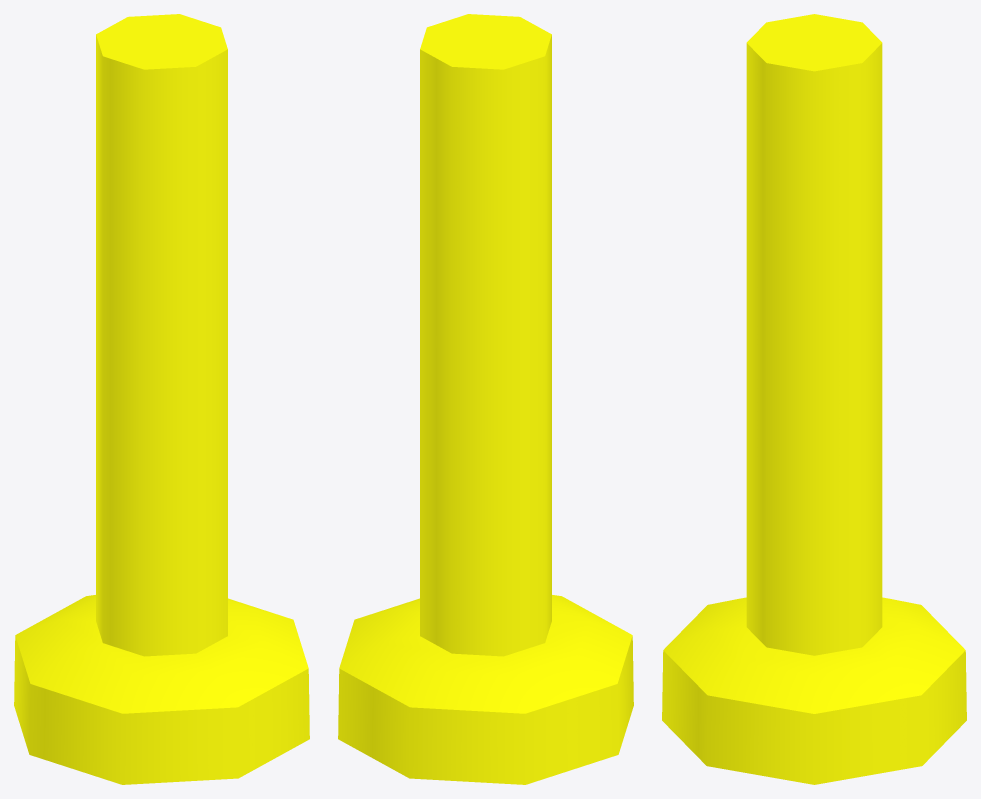
Rendered from uv_flashlight.glb.
3 views of the same model, side by side, from view 1: azimuth 30°, elevation 25°; view 2: azimuth 150°, elevation 25°; view 3: azimuth 270°, elevation 25° (orthographic).
Parts seen in each view (by area): view 1: uvflashlight; view 2: uvflashlight; view 3: uvflashlight.
Boxes of the visible parts, box(x1,y1,x2,y2) form: uvflashlight: box(14, 14, 309, 784); uvflashlight: box(338, 14, 633, 784); uvflashlight: box(662, 14, 966, 784).
Bounding box in the file's own units: 0.1057 × 0.2592 × 0.1057.
1 material, 1 textured.
